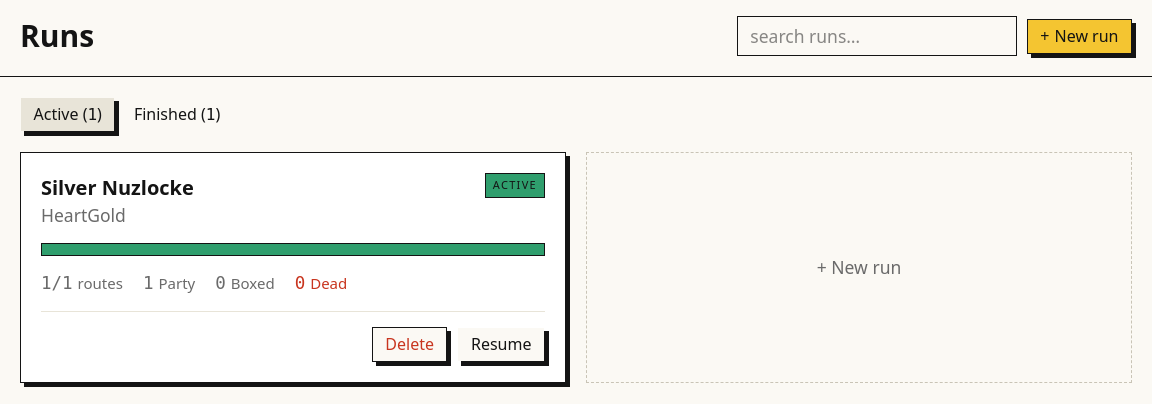
Test: RunListScreen › renders one card per run on its matching tab, each with its own routes/party/boxed/dead counts
The image size is (1152, 404).
Expected: the heading "Silver Nuzlocke" is shown, top-left (41, 173), bottom-right (194, 203)
Expected: the heading "Gold Nuzlocke" is not shown
Click the tab "Finished (1)" at (177, 114), box top-left (120, 97), bottom-right (234, 132)
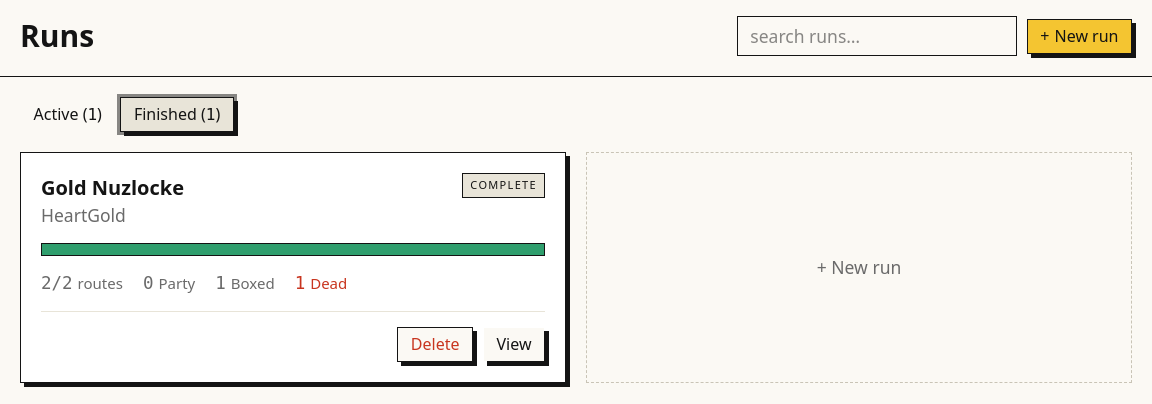
Expected: the heading "Silver Nuzlocke" is gone
Expected: the text "complete" is shown, top-left (462, 173), bottom-right (545, 198)
